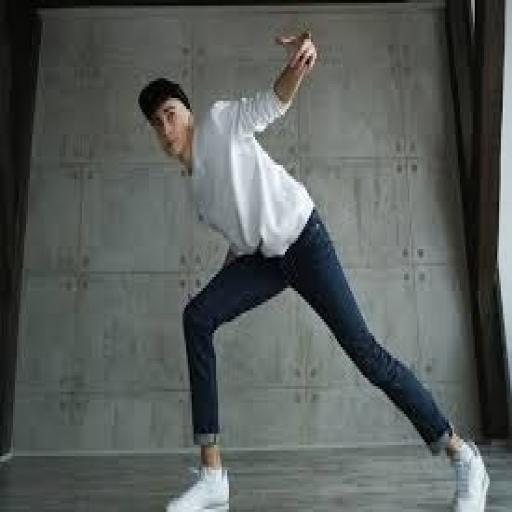dancing: (136, 25, 493, 509)
